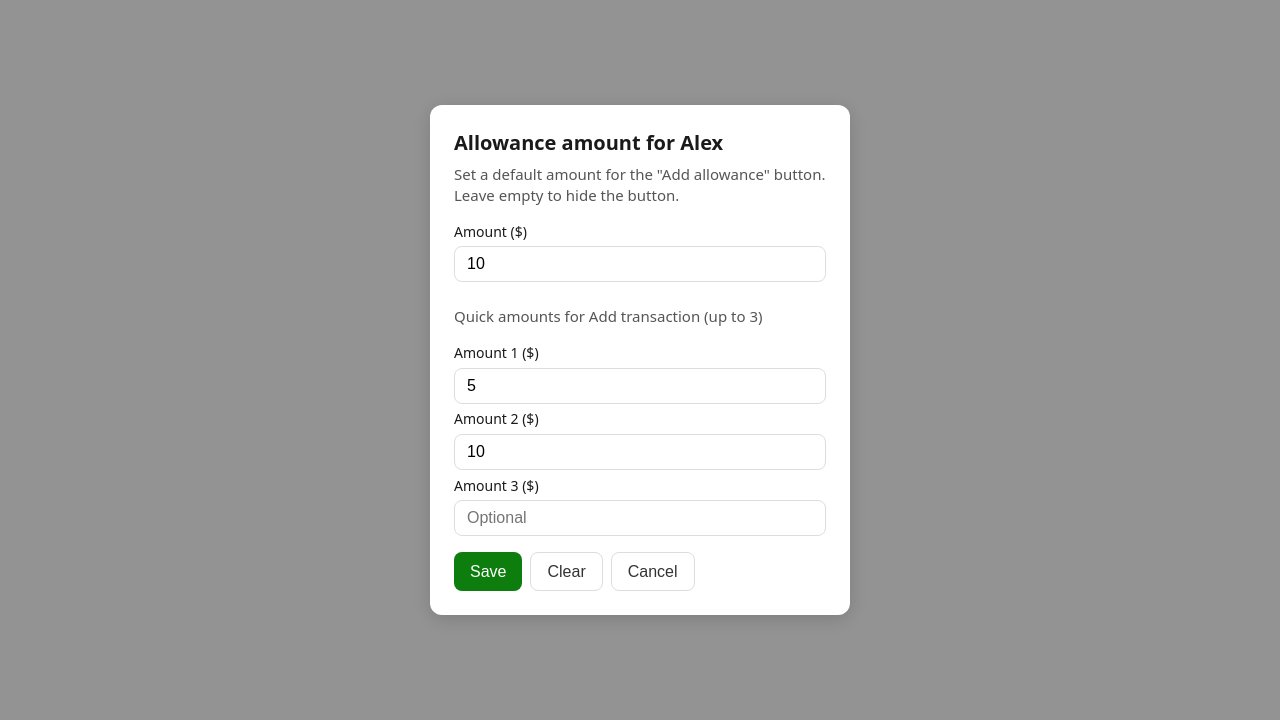
ConfigureAllowanceModal › Clear resets amount and presets
What coordinates should you click on to do the following:
click the button "Clear"
I would click on:
 (567, 572)
Its box is [530,552,603,591].
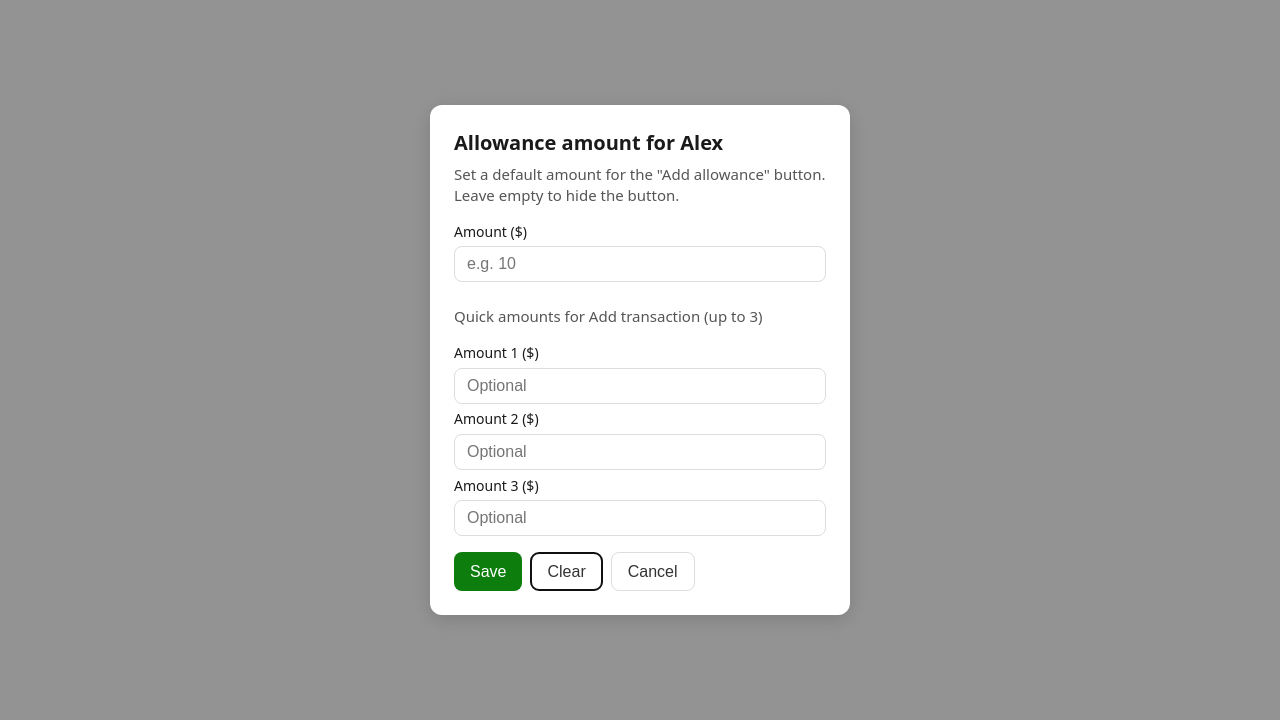
Check: the number field named "allowance amount" is empty, box [454,246,826,282]
Check: the number field named "quick amount 1" is empty, box [454,368,826,404]
